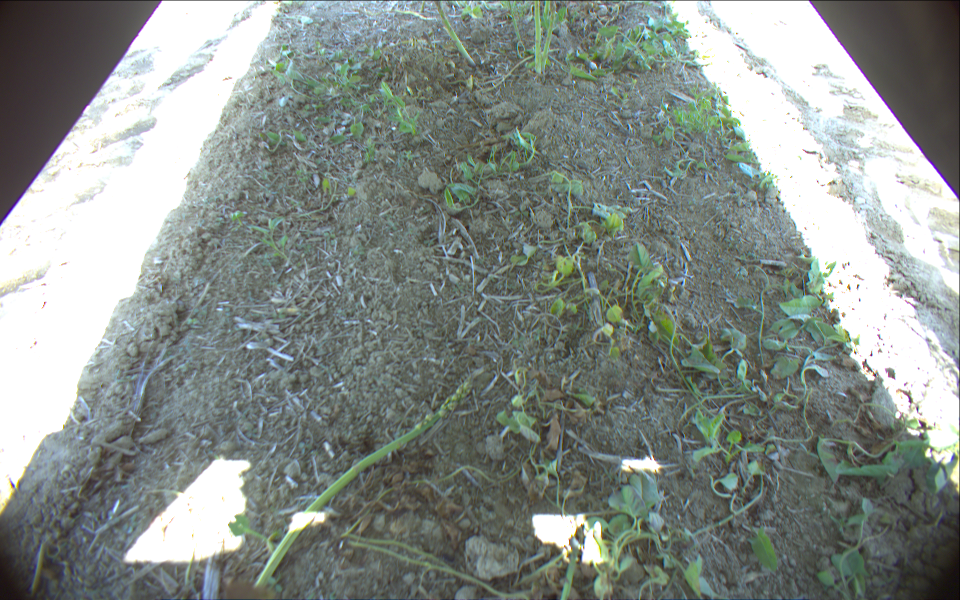aspa: (251, 377, 473, 595), (433, 1, 478, 66), (543, 1, 558, 70), (366, 8, 439, 21), (531, 1, 542, 73), (509, 1, 524, 48), (544, 1, 552, 33)
